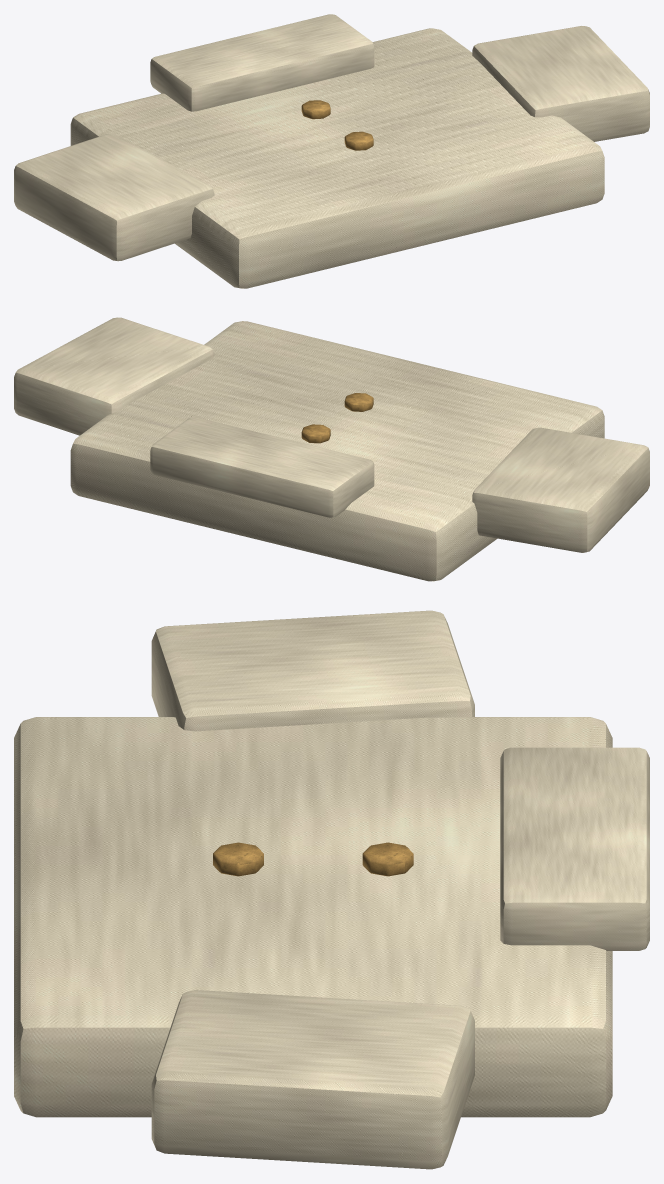
Rendered from shirt_basic.glb.
3 views of the same model, one above another, from view 1: azimuth 30°, elevation 25°; view 2: azimuth 150°, elevation 25°; view 3: azimuth 270°, elevation 25° (orthographic). The views are drawn at different scales.
Parts seen in each view (by area): view 1: shirt_basic; view 2: shirt_basic; view 3: shirt_basic.
Boxes of the visible parts, x1,y1,x2,y2 form: shirt_basic: (14, 14, 649, 288); shirt_basic: (14, 317, 649, 581); shirt_basic: (14, 610, 649, 1169).
Size of the model in its own units: 0.3094 by 0.043 by 0.17.
Materials: 2 (2 with a texture image).
